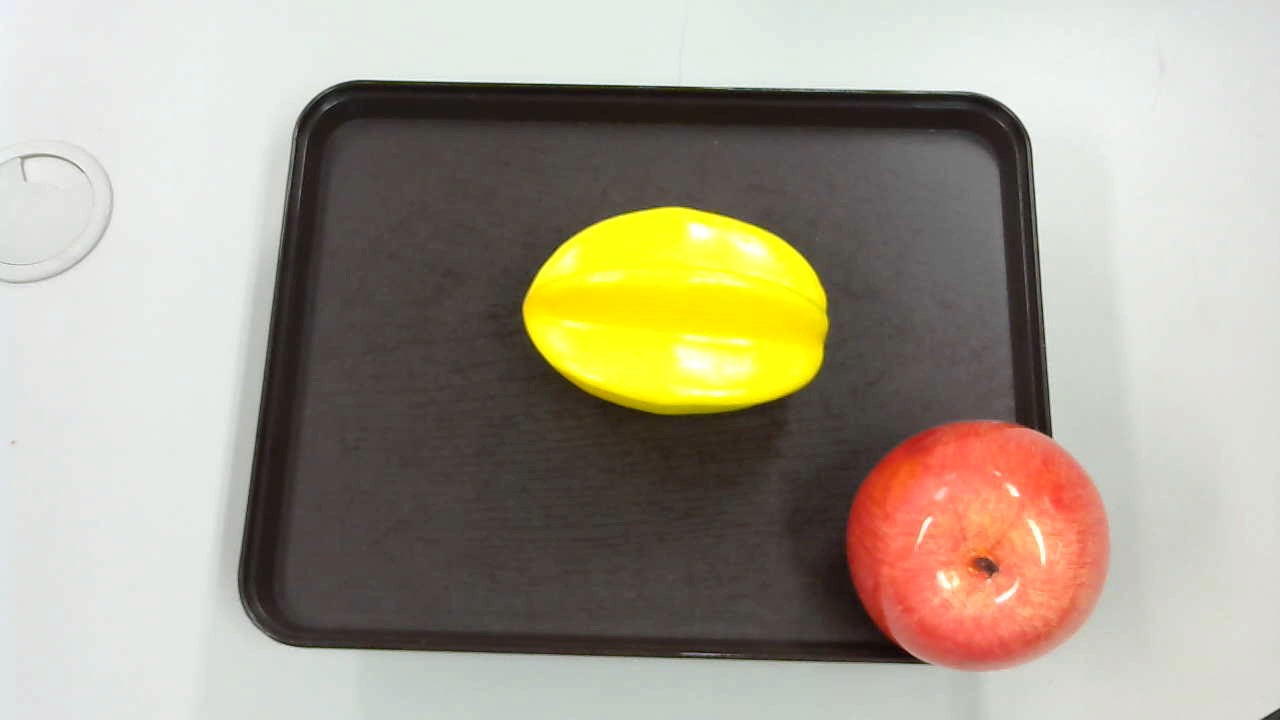red apple: (839, 419, 1113, 674)
star fruit: (523, 208, 831, 415)
